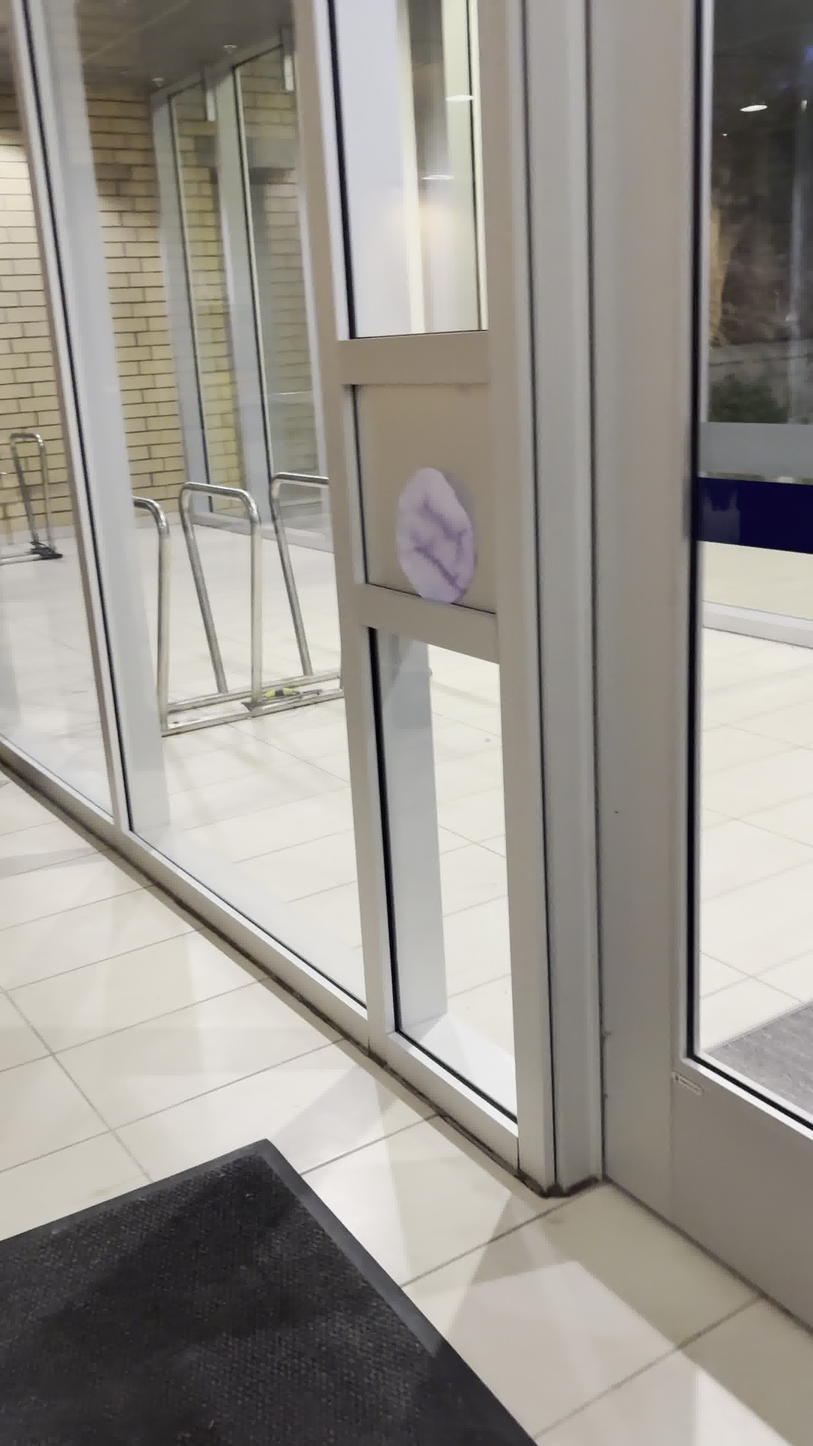Target: (388, 470, 482, 602)
